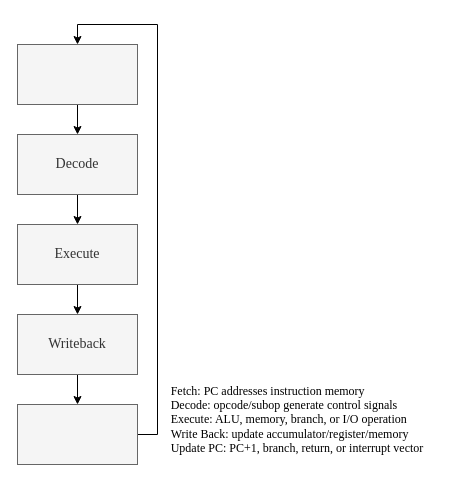
The diagram is 455 pixels wide and 492 high, and some of its shapes have lost their labels. The shapes that lost their labels are listed below. From the top down, each one's centre as x and y in pixels, then its label:
(x=77, y=74): Fetch
(x=77, y=434): Update PC
